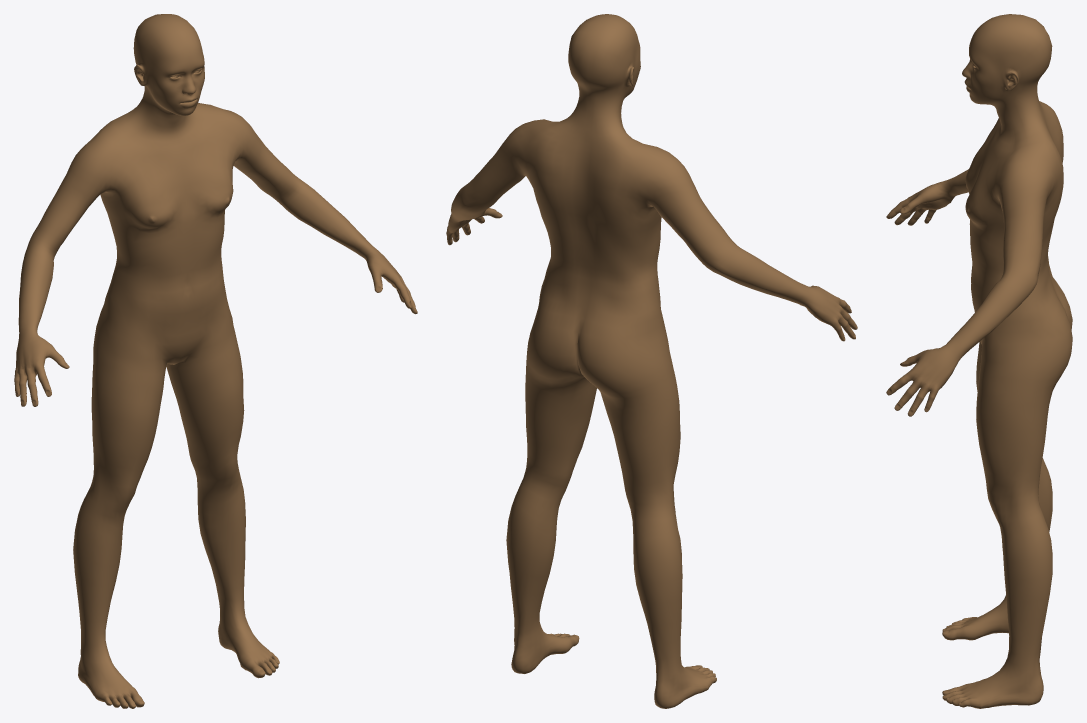
The picture shows the model from 3 angles, left to right: view 1: azimuth 30°, elevation 25°; view 2: azimuth 150°, elevation 25°; view 3: azimuth 270°, elevation 25°; orthographic projection.
Parts seen in each view (by area): view 1: Human; view 2: Human; view 3: Human.
Boxes of the visible parts, x1,y1,x2,y2 form: Human: (14,14,417,708); Human: (446,14,857,708); Human: (886,14,1072,708).
Size of the model in its own units: 1.05 by 1.66 by 0.43.
